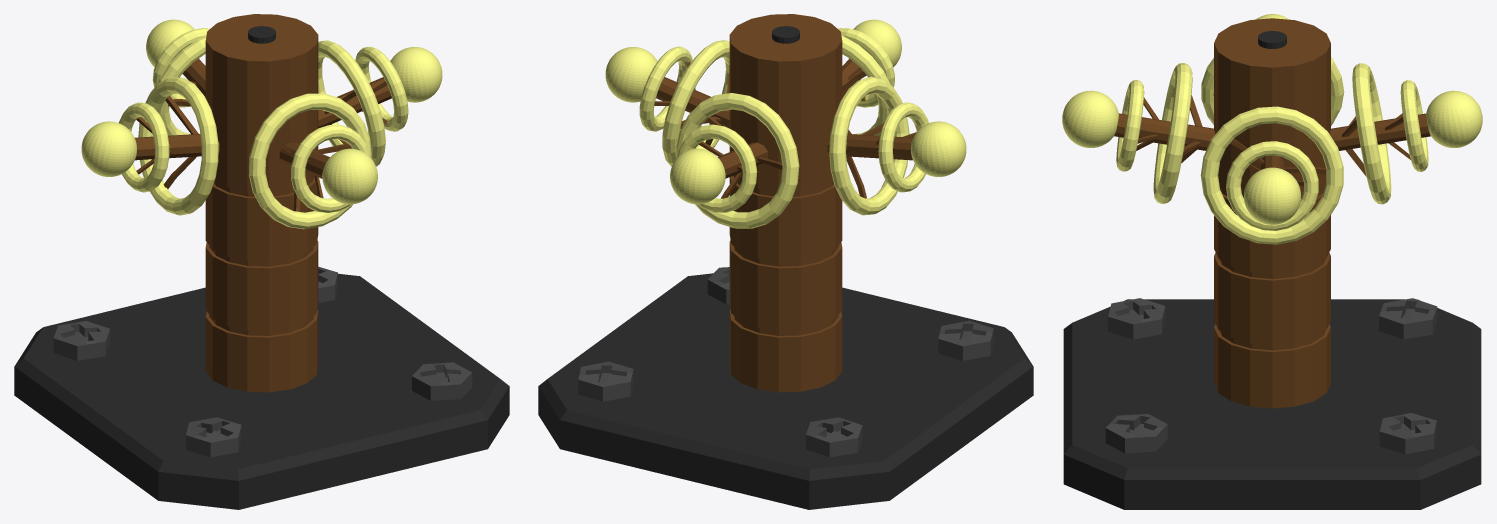
Rendered from reflectorDoble.fbx.
The picture shows the model from 3 angles, left to right: view 1: azimuth 30°, elevation 25°; view 2: azimuth 150°, elevation 25°; view 3: azimuth 270°, elevation 25°; orthographic projection. The views are drawn at different scales.
Visible parts, largest first — view 1: base, baseCylider, cyliders1.002, cyliders1, cyliders1.003, Sphere.002, Sphere, cyliders1.001, Sphere.003, extremo, tornillo_1, tornillo_3 (+6 smaller); view 2: base, baseCylider, cyliders1.001, cyliders1, cyliders1.003, Sphere.001, Sphere, cyliders1.002, Sphere.003, tornillo_3, tornillo_2, tornillo_4 (+5 smaller); view 3: base, baseCylider, cyliders1.003, cyliders1.001, cyliders1.002, Sphere.003, Sphere.002, Sphere.001, tornillo_1, extremo_3, tornillo_3, tornillo_4 (+4 smaller).
Boxes of the visible parts, x1,y1,x2,y2 form: base: (14,273,509,509); baseCylider: (205,14,318,392); cyliders1.002: (248,93,371,229); cyliders1: (118,77,218,215); cyliders1.003: (318,40,408,166); Sphere.002: (322,148,377,204); Sphere: (81,121,136,176); cyliders1.001: (152,28,209,135); Sphere.003: (390,47,442,102); extremo: (135,96,219,188); tornillo_1: (412,362,472,400); tornillo_3: (53,321,110,360); base: (538,273,1033,509); baseCylider: (729,14,842,392); cyliders1.001: (676,93,799,228); cyliders1: (829,76,928,215); cyliders1.003: (639,40,729,166); Sphere.001: (670,148,725,204); Sphere: (911,121,966,176); cyliders1.002: (838,28,894,135); Sphere.003: (605,47,657,102); tornillo_3: (806,417,862,457); tornillo_2: (578,361,633,401); tornillo_4: (938,320,993,360); base: (1063,299,1481,509); baseCylider: (1214,18,1330,408); cyliders1.003: (1200,106,1343,244); cyliders1.001: (1352,63,1428,204); cyliders1.002: (1116,63,1192,203); Sphere.003: (1244,167,1300,224); Sphere.002: (1062,90,1118,147); Sphere.001: (1426,90,1482,147); tornillo_1: (1105,413,1167,453); extremo_3: (1114,95,1215,162); tornillo_3: (1379,298,1437,339); tornillo_4: (1108,298,1165,339).
Bounding box in the file's own units: 201 × 203 × 201.
